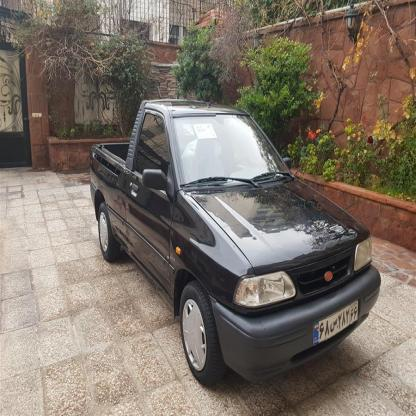Car: (88, 89, 378, 388)
